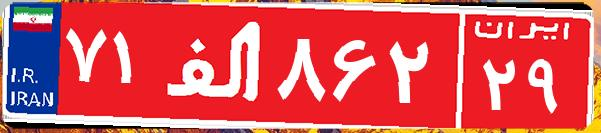1: (110, 28, 158, 105)
2: (385, 28, 445, 110), (475, 38, 525, 113)
6: (330, 28, 385, 110)
7: (57, 26, 110, 107)
8: (273, 28, 330, 110)
9: (525, 38, 570, 115)
الف: (158, 15, 273, 115)
